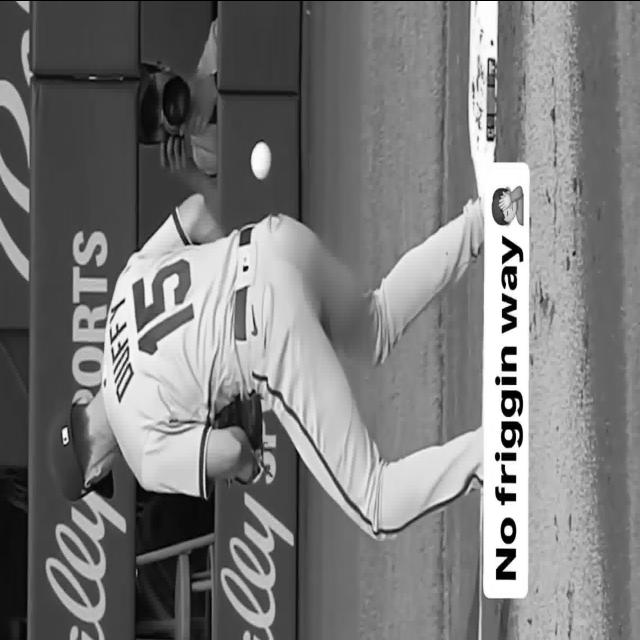base: (469, 0, 499, 194)
baseball: (250, 140, 271, 180)
baseball_glove: (214, 391, 262, 449)
